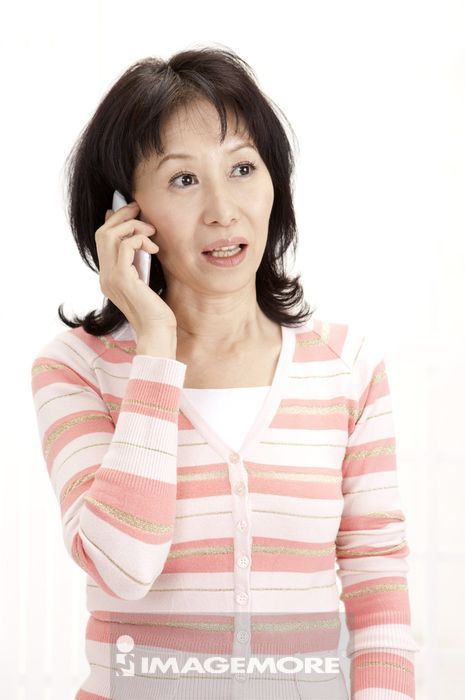phone: (114, 188, 160, 285)
talk: (95, 135, 274, 348)
